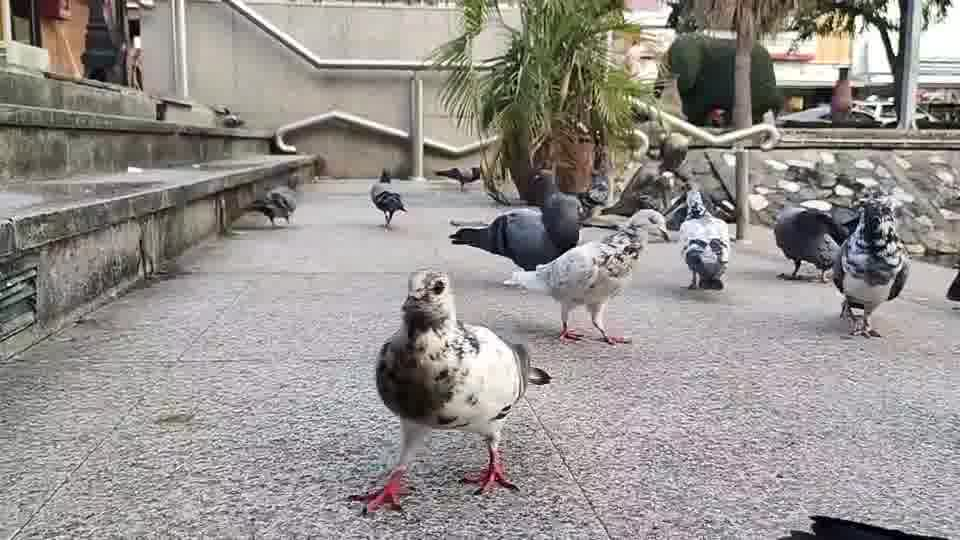Pigeon: (346, 267, 552, 516), (502, 222, 648, 346), (447, 169, 586, 275), (829, 194, 911, 338), (773, 203, 850, 282), (678, 189, 730, 290), (367, 168, 408, 230), (247, 185, 297, 226), (434, 165, 481, 192), (944, 261, 959, 309)
